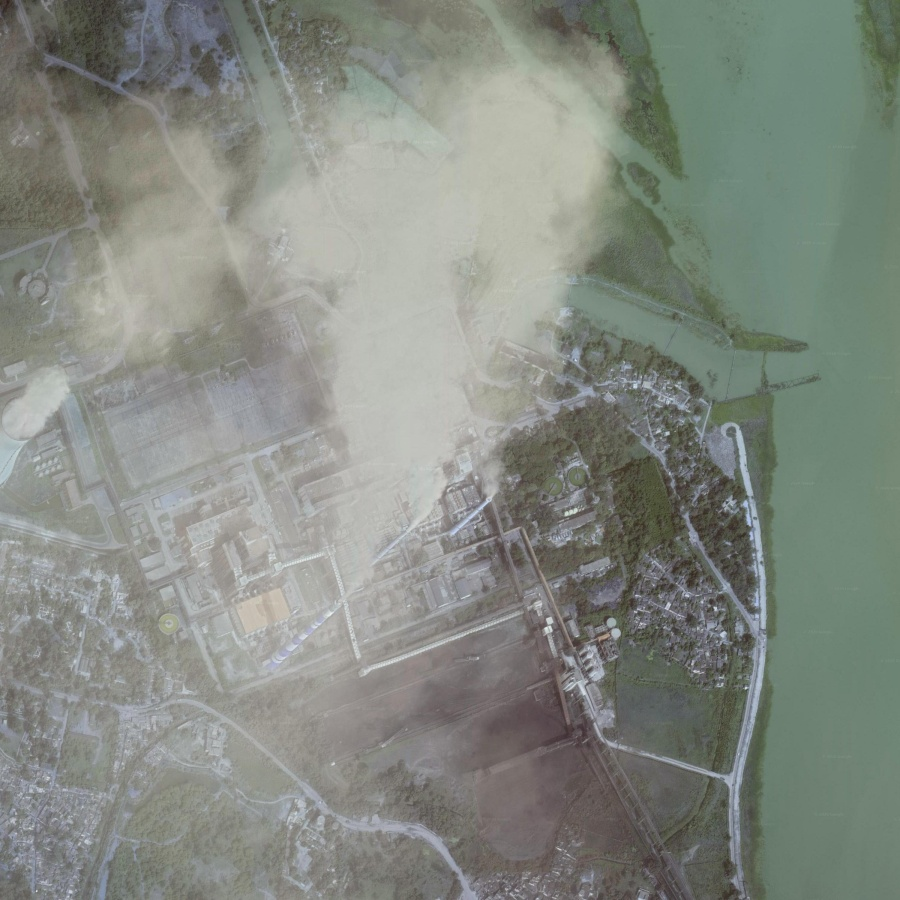PowerPlant: (229, 419, 519, 700)
